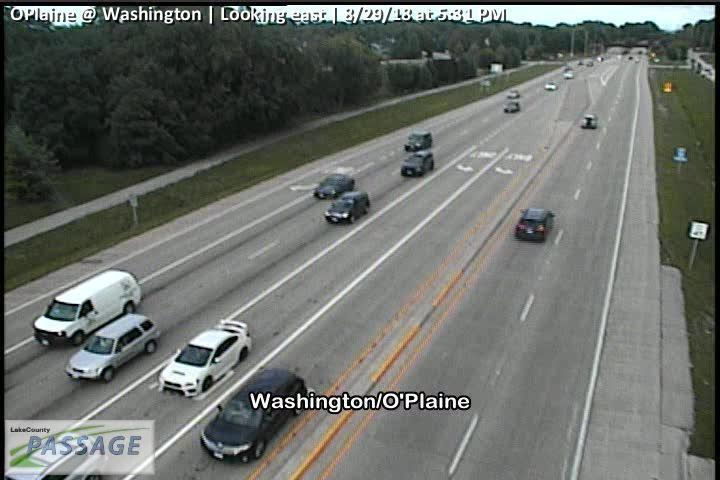SUV: (199, 367, 308, 462), (33, 269, 143, 345), (66, 313, 161, 382), (324, 191, 370, 224), (515, 207, 554, 244), (401, 150, 433, 175), (404, 132, 432, 148), (582, 115, 597, 128)
Sedan: (160, 318, 252, 398), (315, 174, 355, 196), (504, 100, 519, 112), (545, 82, 557, 91), (508, 89, 519, 98), (564, 70, 574, 79)
